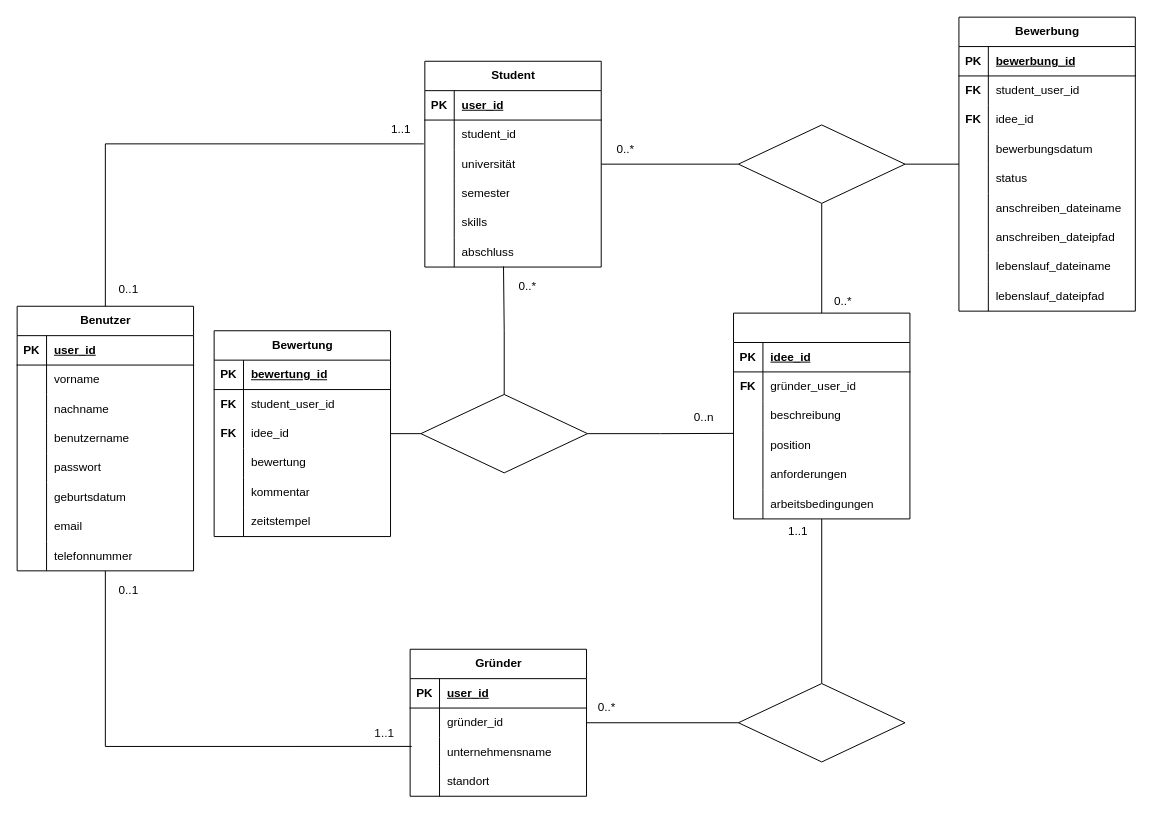
Some shapes in this 1152 by 813 pixel diagram are drawn without their labels. The box of each missing label's shape, as (x1, y1, x2, y2) in pixels:
bewertet: (420, 393, 588, 473)
bewirbt sich: (737, 124, 905, 203)
Gründungsidee: (733, 312, 910, 519)
veröffentlicht: (737, 683, 905, 762)
